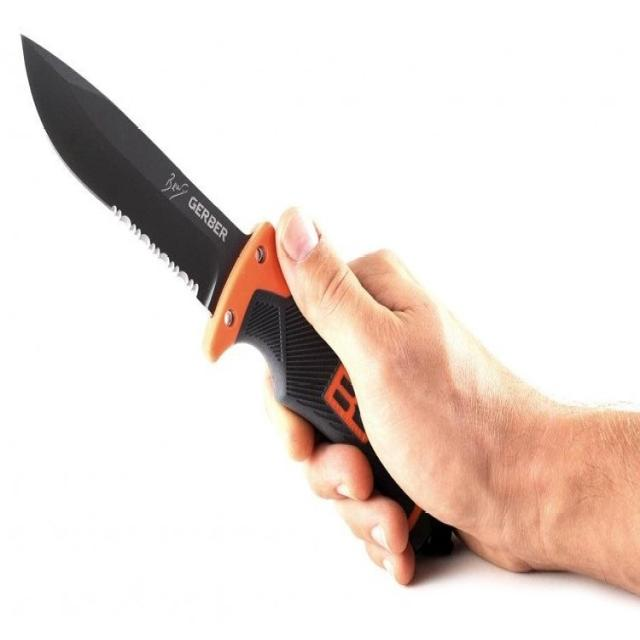knife: (17, 25, 454, 570)
